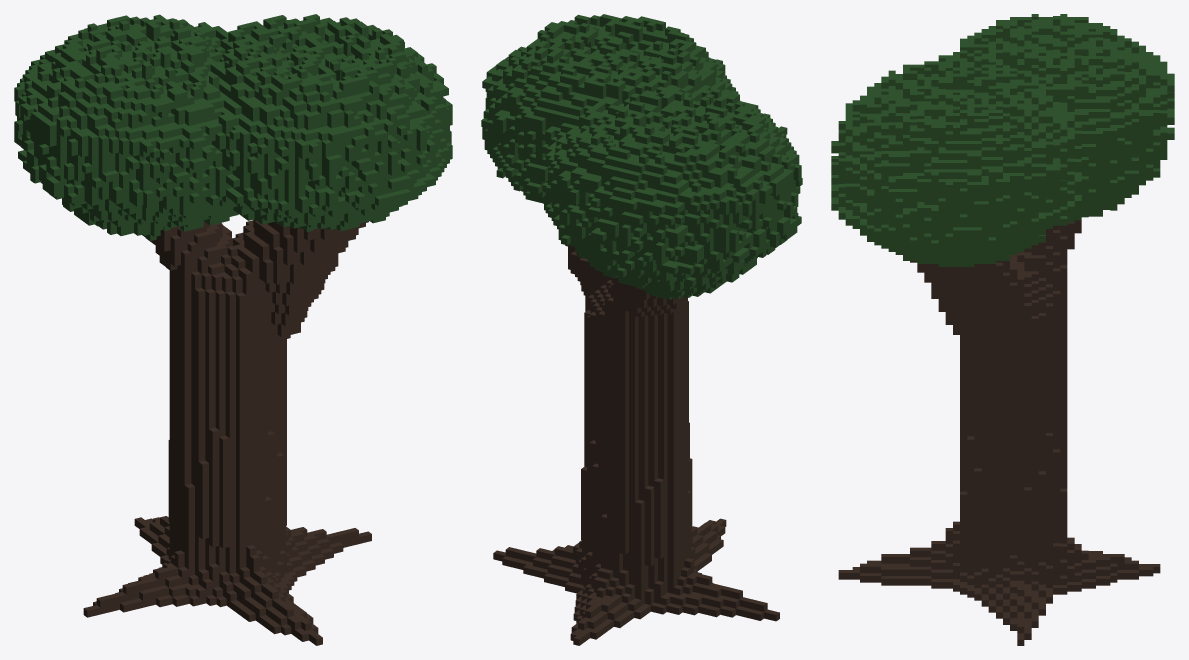
File: Tree 4.obj
3 renders of one model, left to right at view 1: azimuth 30°, elevation 25°; view 2: azimuth 150°, elevation 25°; view 3: azimuth 270°, elevation 25°, orthographic. The views are drawn at different scales.
Size of the model in its own units: 5.3 by 7.9 by 4.8.
Materials: 1 (1 with a texture image).
